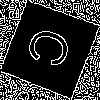C: (24, 24, 82, 75)
